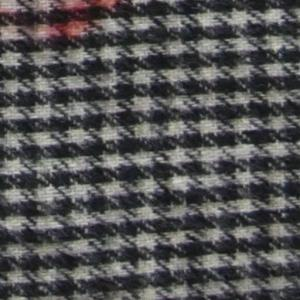Stain: (1, 1, 133, 45)
